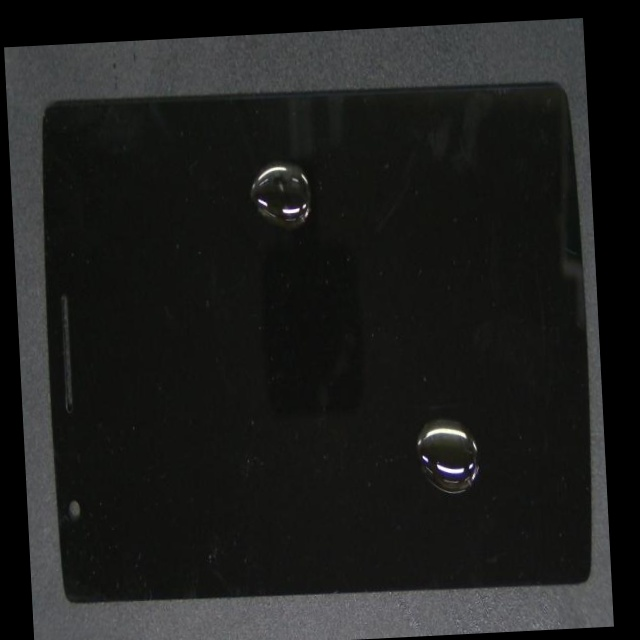oil: (251, 249, 614, 640), (143, 130, 451, 346)
